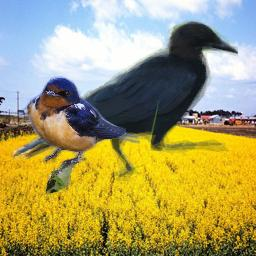Crow: (12, 20, 238, 181)
Cuckoo: (45, 160, 79, 195)
Swallow: (23, 76, 140, 166)
